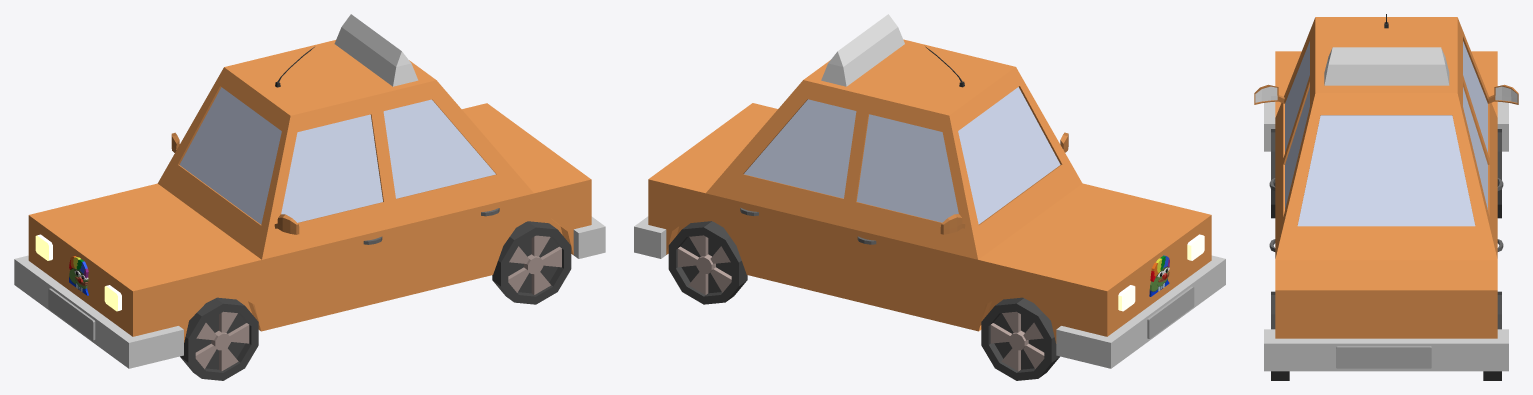
File: peepoCar.fbx
3 views of the same model, side by side, from view 1: azimuth 30°, elevation 25°; view 2: azimuth 150°, elevation 25°; view 3: azimuth 270°, elevation 25° (orthographic). The views are drawn at different scales.
Visible parts, largest first — view 1: PeepoCar, Windows, BackWheel, FrontWheel, DrivingSchoolBanner, FrontPlate, Light, PeepoLogo, SideRearView; view 2: PeepoCar, Windows, BackWheel, FrontWheel, DrivingSchoolBanner, FrontPlate, Light, PeepoLogo, SideRearView; view 3: PeepoCar, Windows, DrivingSchoolBanner, BackPlate, FrontWheel, BackWheel, SideRearViewMirror, SideRearView.
Part boxes in pixels (left/top/right/bottom): PeepoCar: left=14, top=40, right=605, bottom=368; Windows: left=179, top=87, right=495, bottom=224; BackWheel: left=492, top=221, right=571, bottom=304; FrontWheel: left=180, top=297, right=258, bottom=380; DrivingSchoolBanner: left=334, top=14, right=418, bottom=86; FrontPlate: left=48, top=288, right=95, bottom=340; Light: left=35, top=234, right=121, bottom=311; PeepoLogo: left=69, top=256, right=88, bottom=295; SideRearView: left=171, top=132, right=299, bottom=234; PeepoCar: left=634, top=39, right=1225, bottom=368; Windows: left=744, top=87, right=1060, bottom=224; BackWheel: left=668, top=221, right=747, bottom=304; FrontWheel: left=981, top=297, right=1059, bottom=380; DrivingSchoolBanner: left=821, top=14, right=904, bottom=86; FrontPlate: left=1147, top=286, right=1194, bottom=338; Light: left=1118, top=234, right=1204, bottom=311; PeepoLogo: left=1149, top=255, right=1169, bottom=296; SideRearView: left=940, top=132, right=1068, bottom=234; PeepoCar: left=1264, top=17, right=1508, bottom=371; Windows: left=1285, top=41, right=1487, bottom=226; DrivingSchoolBanner: left=1324, top=47, right=1449, bottom=85; BackPlate: left=1336, top=346, right=1431, bottom=368; FrontWheel: left=1271, top=129, right=1501, bottom=218; BackWheel: left=1271, top=291, right=1501, bottom=380; SideRearViewMirror: left=1255, top=86, right=1517, bottom=102; SideRearView: left=1254, top=84, right=1518, bottom=104.
Size of the model in its own units: 532 by 275 by 237.
